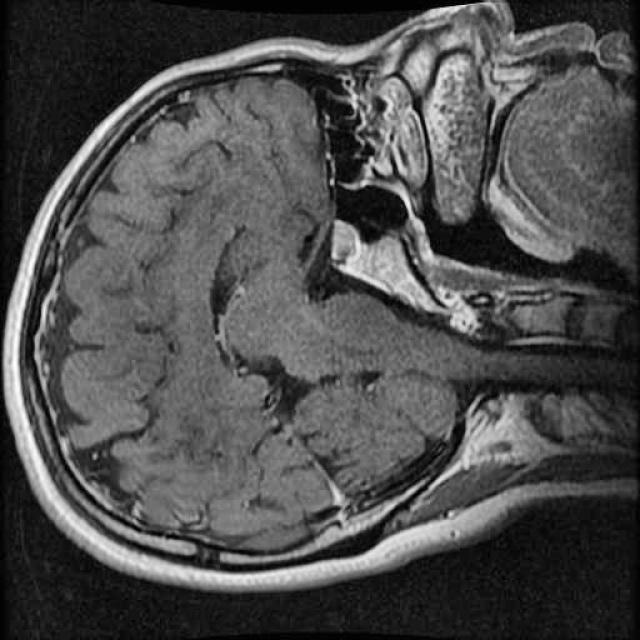Tumor: (314, 206, 374, 285)
